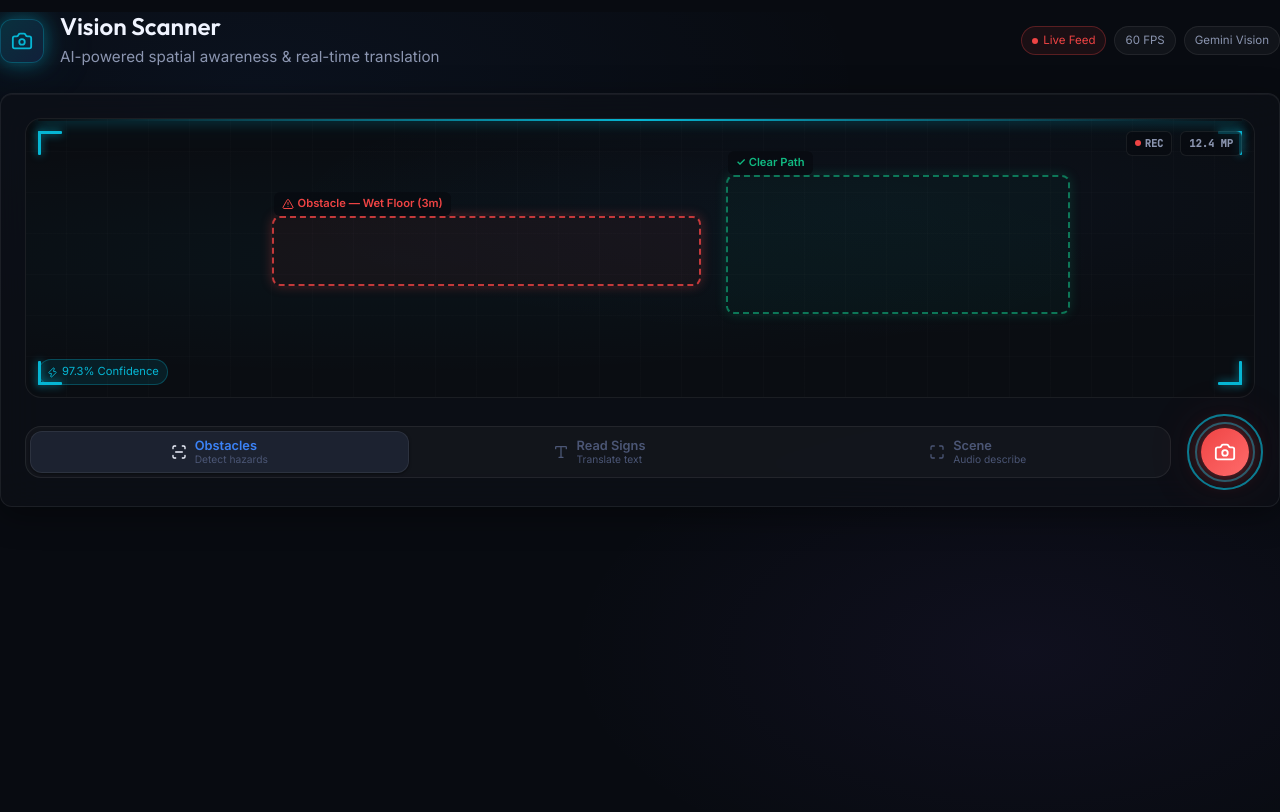
Test: Vision Page › switching to Read Signs mode shows a multilingual translation
Click the button "Read Signs Translate text" at (599, 452), box [411,431,787,473]
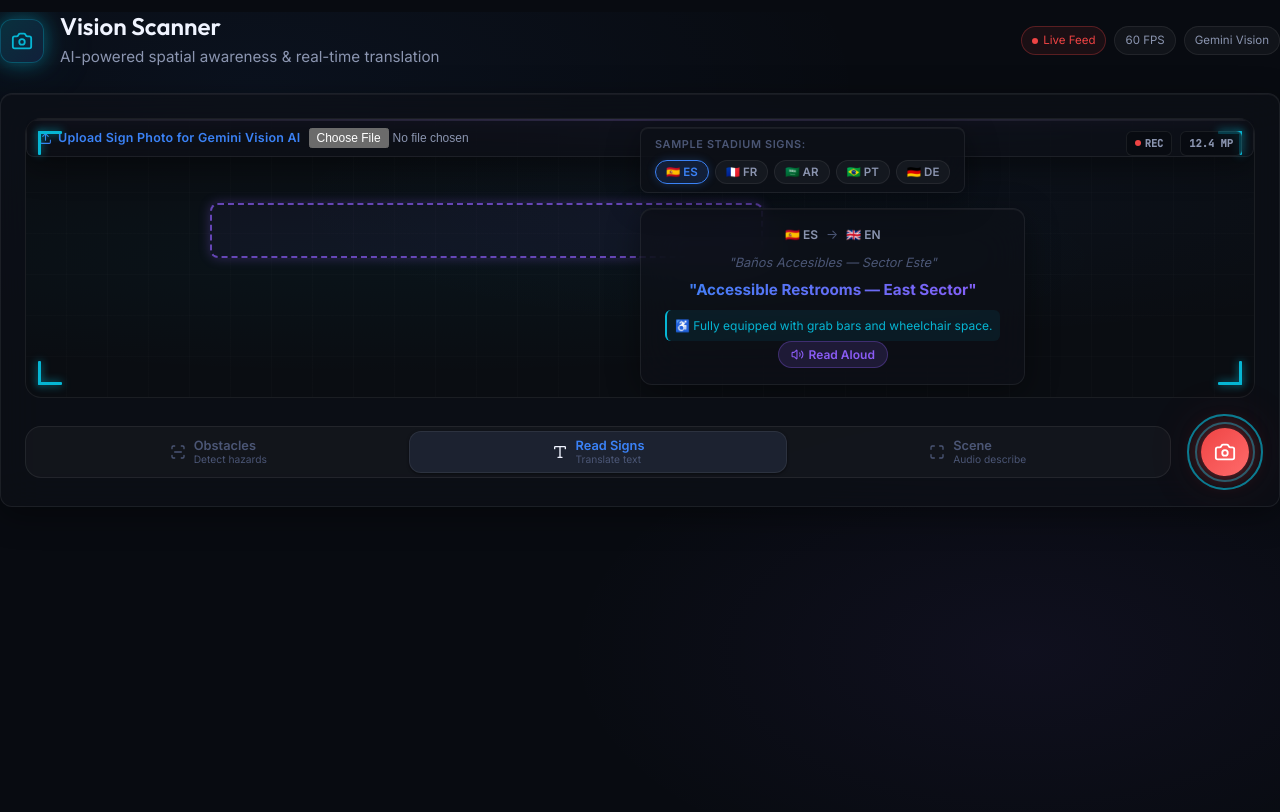
Expected: the text "\"Accessible Restrooms — East Sector\"" is shown, [665,278,1000,302]
